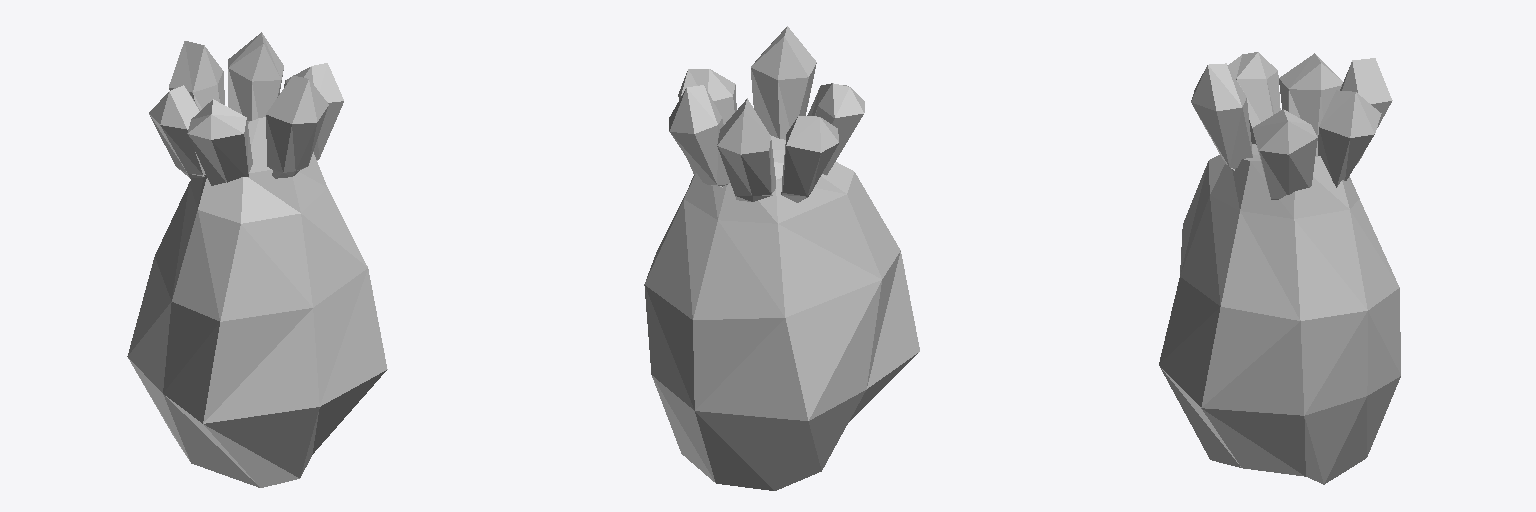
Rendered from Sponge_A_01_LOD2.obj.
3 views of the same model, side by side, from view 1: azimuth 30°, elevation 25°; view 2: azimuth 150°, elevation 25°; view 3: azimuth 270°, elevation 25° (orthographic).
Parts seen in each view (by area): view 1: Sponge_A_01_LOD2_Cylinder.423; view 2: Sponge_A_01_LOD2_Cylinder.423; view 3: Sponge_A_01_LOD2_Cylinder.423.
Part boxes in pixels (bbox=[...]): Sponge_A_01_LOD2_Cylinder.423: bbox=[127, 32, 387, 487]; Sponge_A_01_LOD2_Cylinder.423: bbox=[644, 26, 919, 490]; Sponge_A_01_LOD2_Cylinder.423: bbox=[1159, 52, 1400, 484].
Bounding box in the file's own units: 2.43 × 4.52 × 2.49.